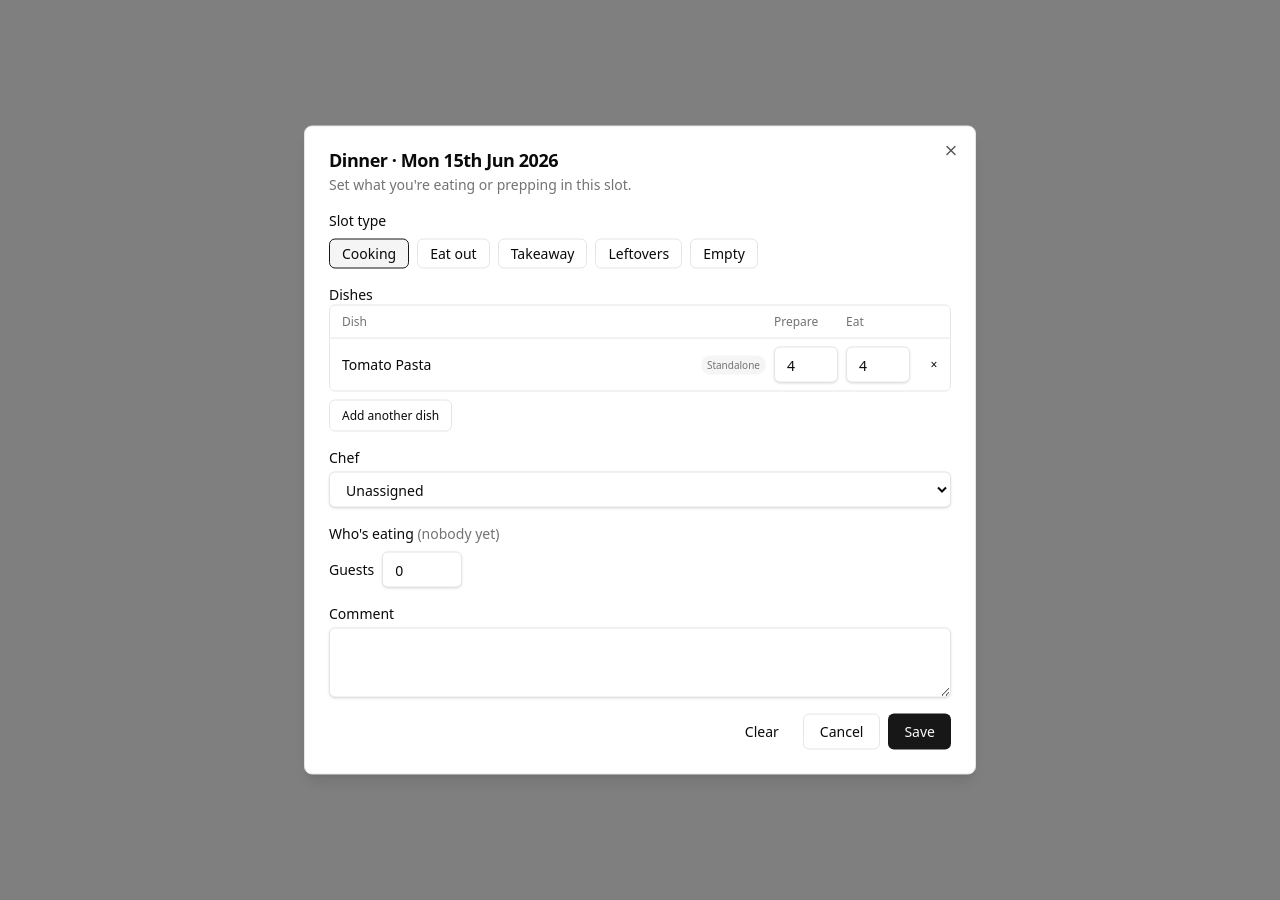
Test: SlotEditorSheet — meal items › pulls eaten down when prepared is lowered below it
The width and height of the screenshot is (1280, 900).
Clear the number field named "Prepared for Tomato Pasta" at point(806, 364), box top-left (774, 346), bottom-right (838, 382)
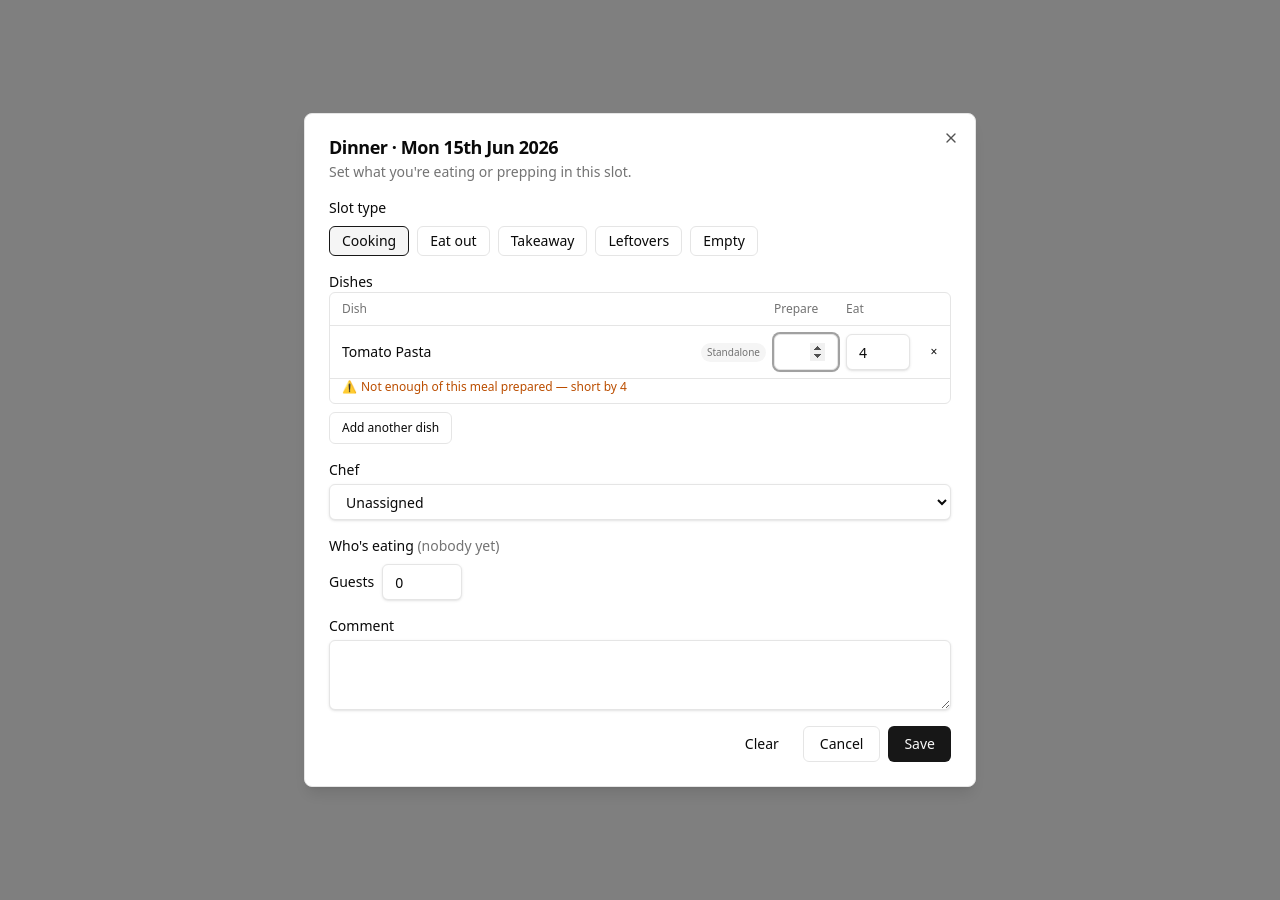
Type "2" into the number field named "Prepared for Tomato Pasta" at point(806, 352), box top-left (774, 334), bottom-right (838, 370)
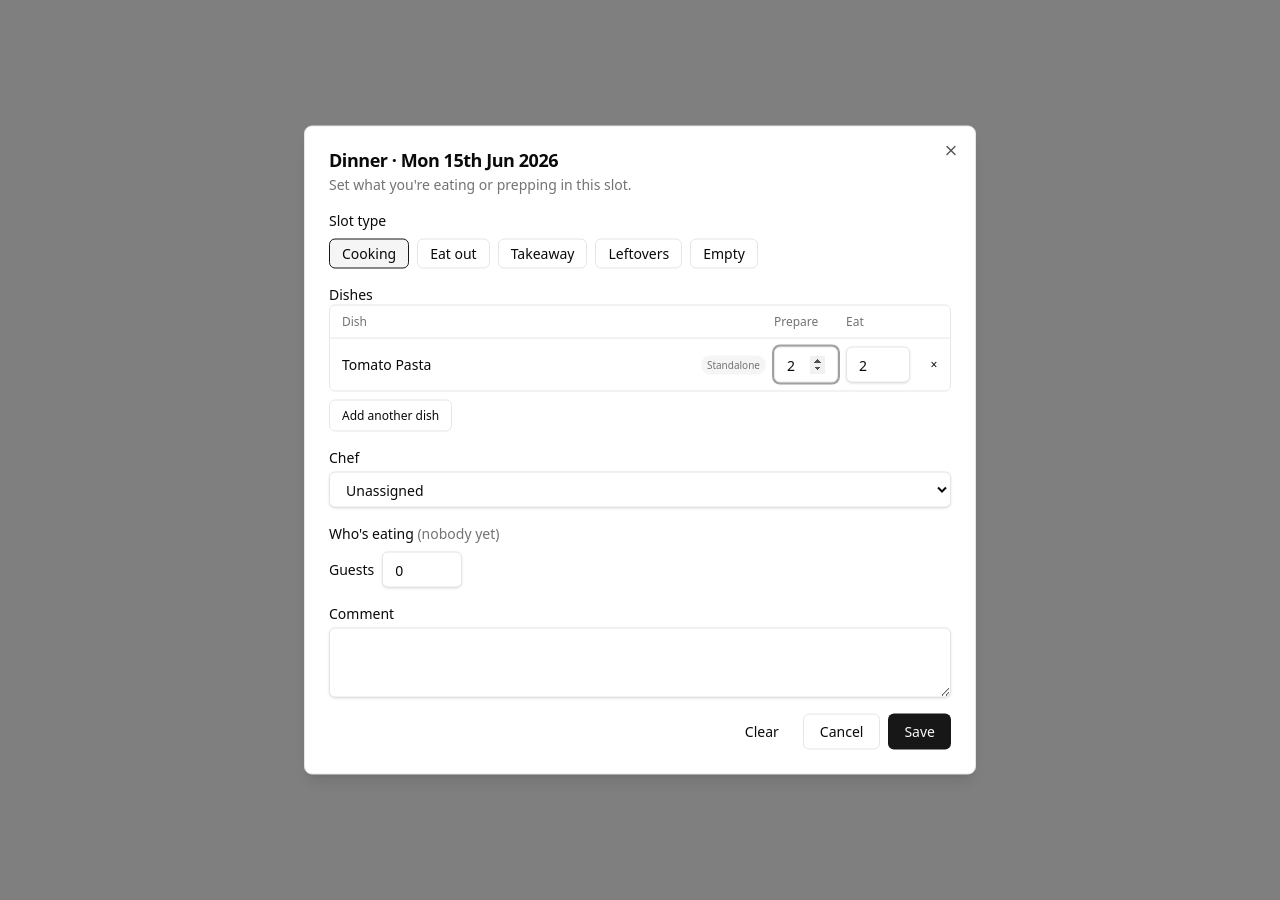
Expected: the number field named "Eaten for Tomato Pasta" holds "2", top-left (846, 346), bottom-right (910, 382)
